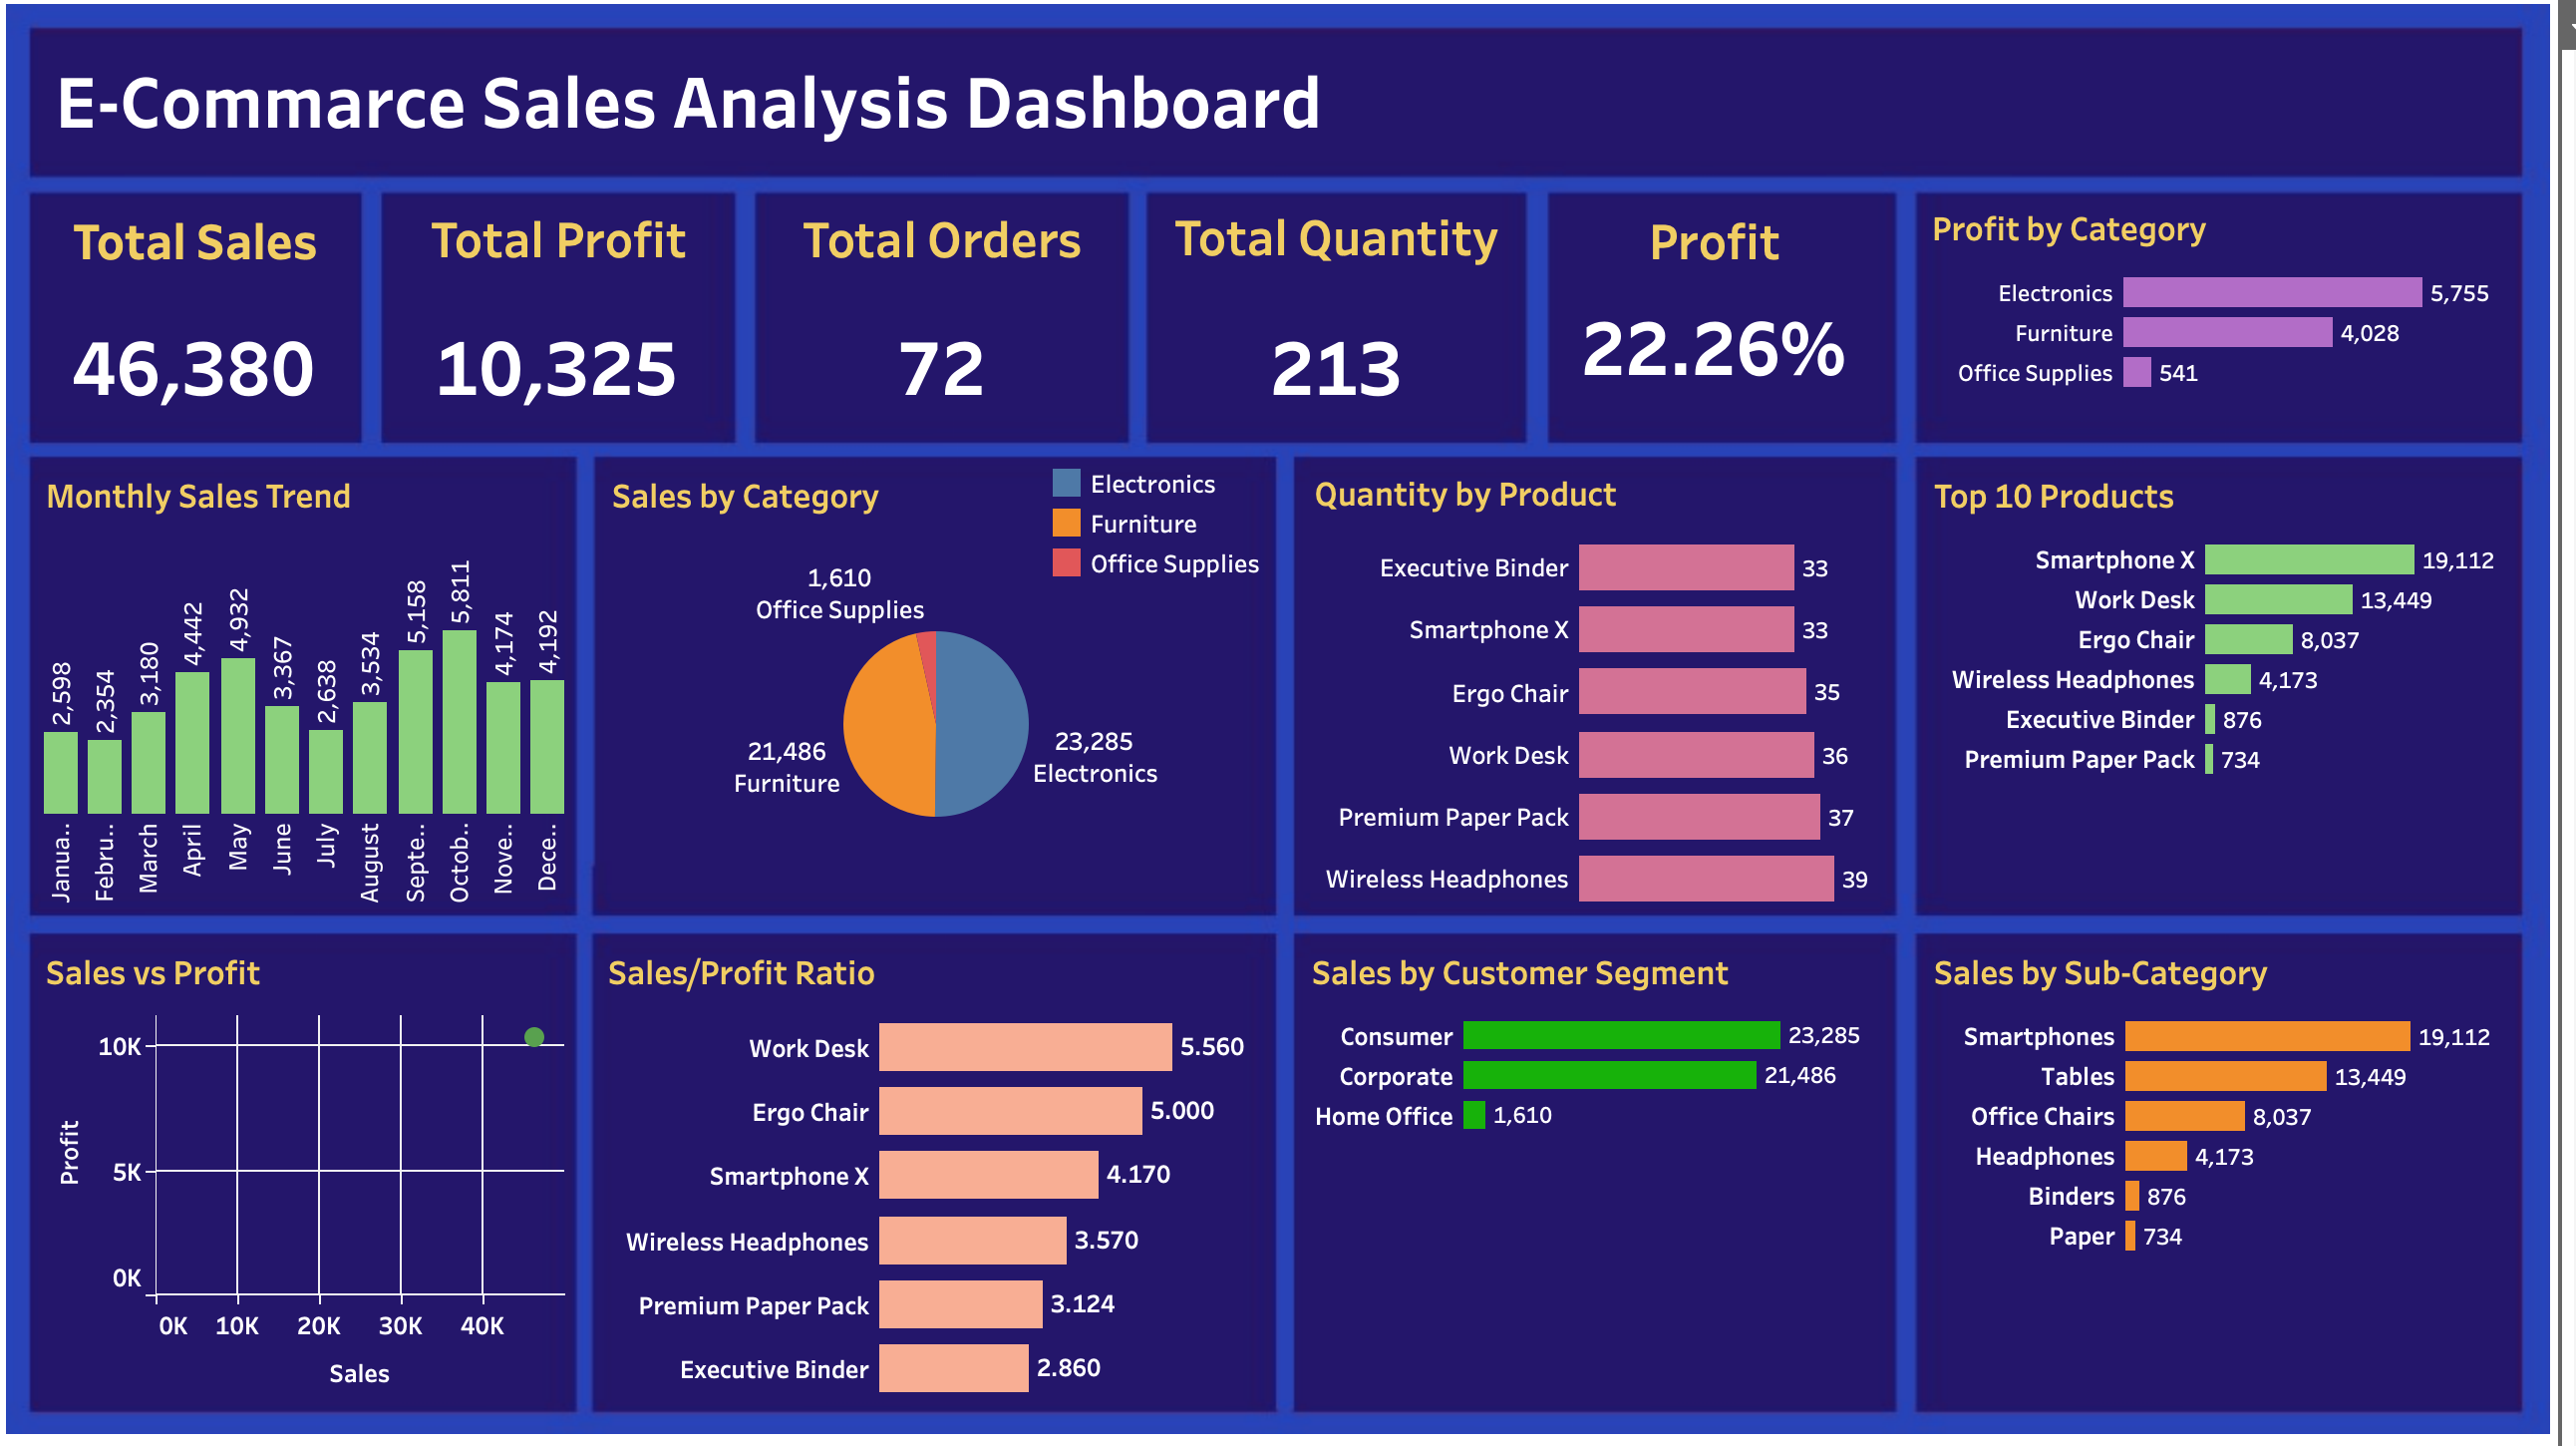

Layout of this report page (visuals, bound fields, positions):
{"tool":"tableau","page":{"name":"E-Commarce Sales Dashbords","canvas":[1300,768],"ordinal":0},"visuals":[{"type":"image","param":"Image/Slide1 3.jpg","box":[8,8,1284,752]},{"type":"text","box":[34,45,708,55]},{"type":"worksheet","title":"Total Quantity","mark":"Automatic","box":[586,121,187,123]},{"type":"worksheet","title":"Total Profit","mark":"Text","box":[204,122,171,120]},{"type":"worksheet","title":"Total Orders","mark":"Automatic","box":[391,122,182,120]},{"type":"worksheet","title":"Profit by Category","mark":"Automatic","rows":["Category"],"cols":["Profit"],"box":[974,122,296,119]},{"type":"worksheet","title":"Total Sales","mark":"Text","box":[27,123,160,119]},{"type":"worksheet","title":"Profit Margin","mark":"Automatic","box":[789,123,168,116]},{"type":"legend","title":"Sales by Category","param":"[federated.00ac43519p80lk1aa0we216j5j6l].[none:Category:nk]","box":[534,255,111,64]},{"type":"worksheet","title":" Quantity by Product","mark":"Automatic","rows":["Product"],"cols":["Quantity"],"box":[661,255,297,224]},{"type":"worksheet","title":"Monthly Sales Trend","mark":"Automatic","rows":["Sales"],"cols":["Month"],"box":[28,256,267,222]},{"type":"worksheet","title":"Sales by Category","mark":"Pie","box":[312,256,333,223]},{"type":"worksheet","title":"Top 10 Products","mark":"Automatic","rows":["Product"],"cols":["Sales"],"box":[975,256,295,220]},{"type":"worksheet","title":"Sales vs Profit","mark":"Circle","rows":["Profit"],"cols":["Sales"],"box":[28,495,265,232]},{"type":"worksheet","title":"Sales/Profit Ratio","mark":"Automatic","rows":["Product"],"cols":["Sales/Profit Ratio"],"box":[310,495,335,230]},{"type":"worksheet","title":"Sales by Customer Segment","mark":"Automatic","rows":["Customer Segment"],"cols":["Sales"],"box":[663,495,292,226]},{"type":"worksheet","title":"Sales by Sub-Category","mark":"Automatic","rows":["Sub-Category"],"cols":["Sales"],"box":[975,495,295,232]}]}

Visuals, with their boxes on the page's 1300x768 design canvas (x1, y1, x2, y2). These are canvas units, not pixel positions in the 2576x1446 screenshot, which may show the page scaled, cropped or inside an application window:
image: [left=8, top=8, right=1292, bottom=760]
text: [left=34, top=45, right=742, bottom=100]
"Total Quantity" worksheet: [left=586, top=121, right=773, bottom=244]
"Total Profit" worksheet (Text marks): [left=204, top=122, right=375, bottom=242]
"Total Orders" worksheet: [left=391, top=122, right=573, bottom=242]
"Profit by Category" worksheet: [left=974, top=122, right=1270, bottom=241]
"Total Sales" worksheet (Text marks): [left=27, top=123, right=187, bottom=242]
"Profit Margin" worksheet: [left=789, top=123, right=957, bottom=239]
"Sales by Category" legend: [left=534, top=255, right=645, bottom=319]
" Quantity by Product" worksheet: [left=661, top=255, right=958, bottom=479]
"Monthly Sales Trend" worksheet: [left=28, top=256, right=295, bottom=478]
"Sales by Category" worksheet (Pie marks): [left=312, top=256, right=645, bottom=479]
"Top 10 Products" worksheet: [left=975, top=256, right=1270, bottom=476]
"Sales vs Profit" worksheet (Circle marks): [left=28, top=495, right=293, bottom=727]
"Sales/Profit Ratio" worksheet: [left=310, top=495, right=645, bottom=725]
"Sales by Customer Segment" worksheet: [left=663, top=495, right=955, bottom=721]
"Sales by Sub-Category" worksheet: [left=975, top=495, right=1270, bottom=727]
